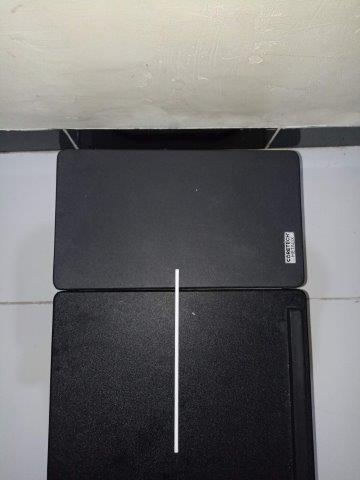sedotan: (173, 269, 179, 453)
